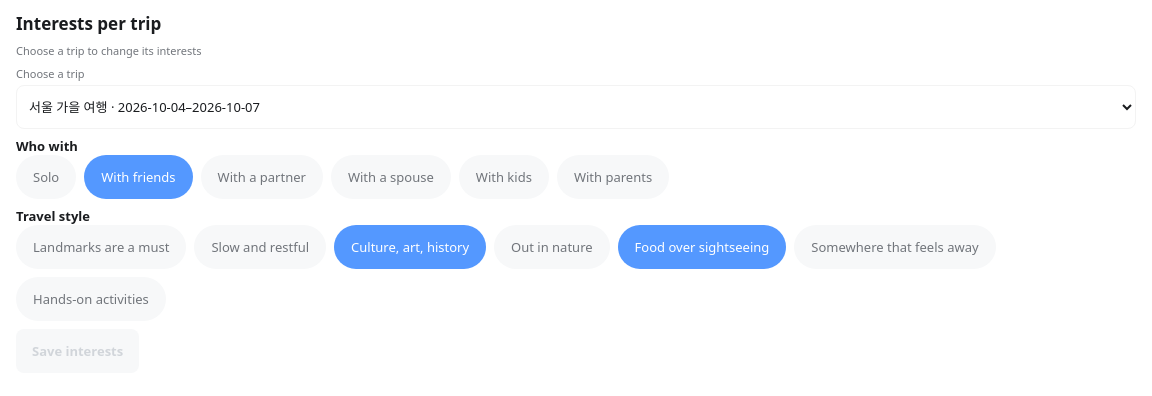
Test: FE-106-T3 the card is reachable and named › announces saving and saved without stealing focus
Click the button "Out in nature".
click(552, 247)  # box [494,225,610,269]
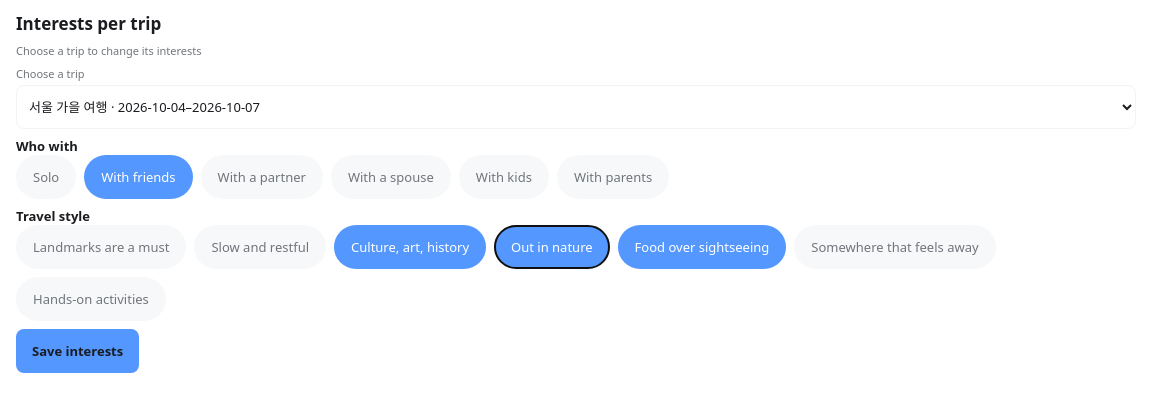
Click the button "Save interests".
click(78, 351)  # box [16,329,139,373]
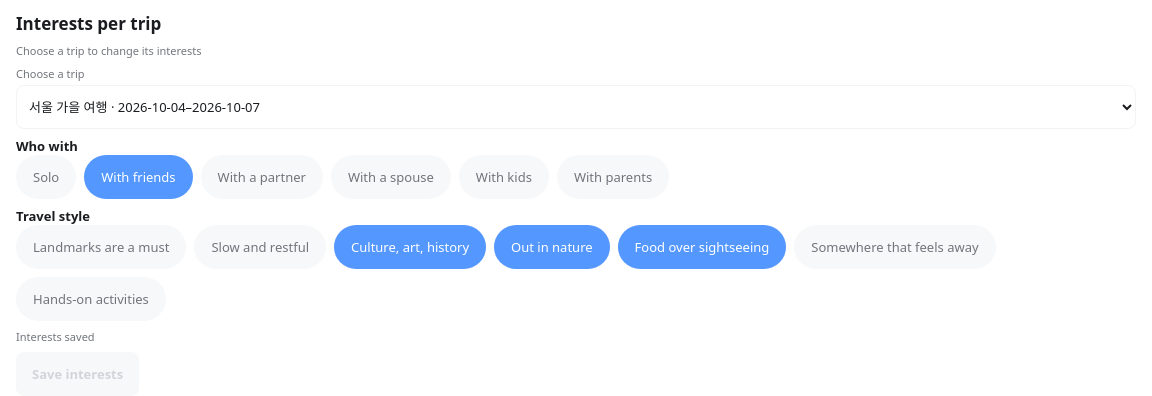
Result: the text "Interests saved" is shown at [16,329,95,344]
